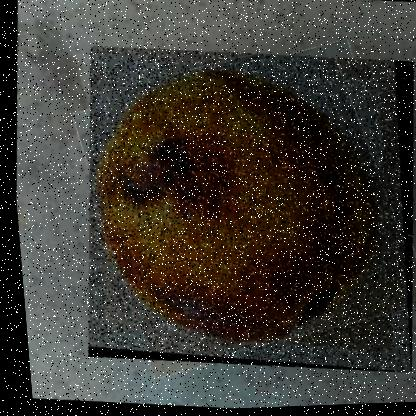guava_rotten: (61, 35, 415, 385)
